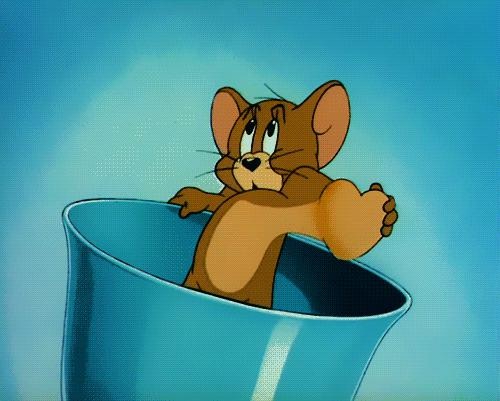jerry: (167, 79, 399, 312)
